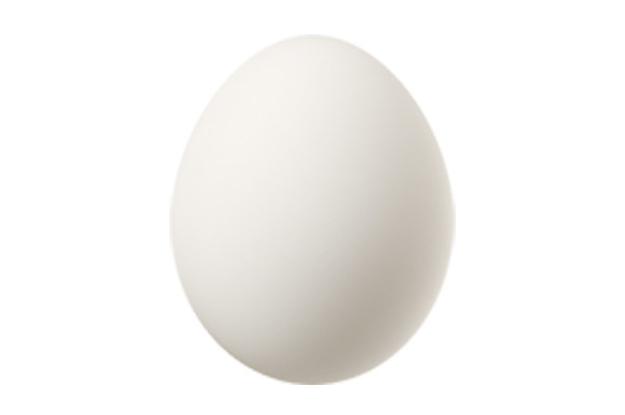Egg: (159, 22, 471, 403)
